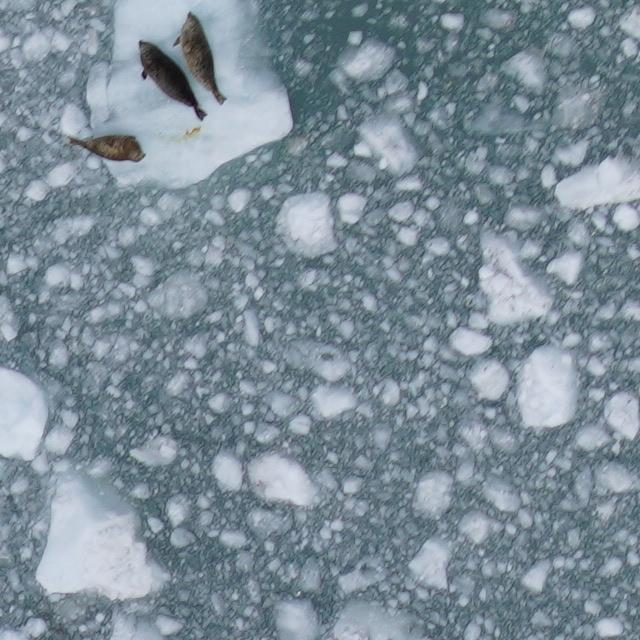seal: (133, 36, 210, 124), (168, 8, 232, 110), (64, 131, 150, 167)
